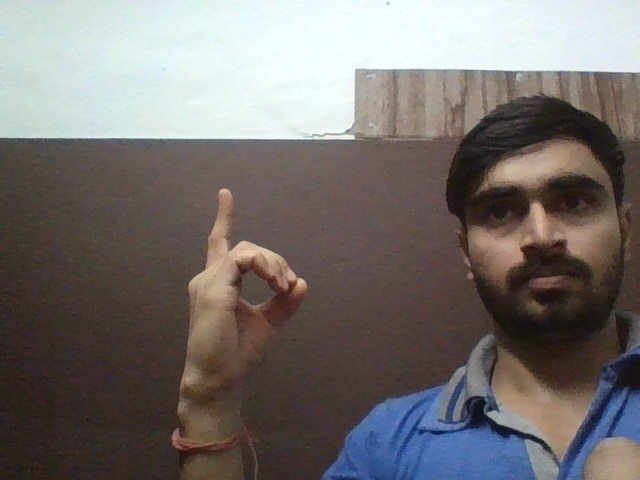D: (176, 183, 317, 367)
